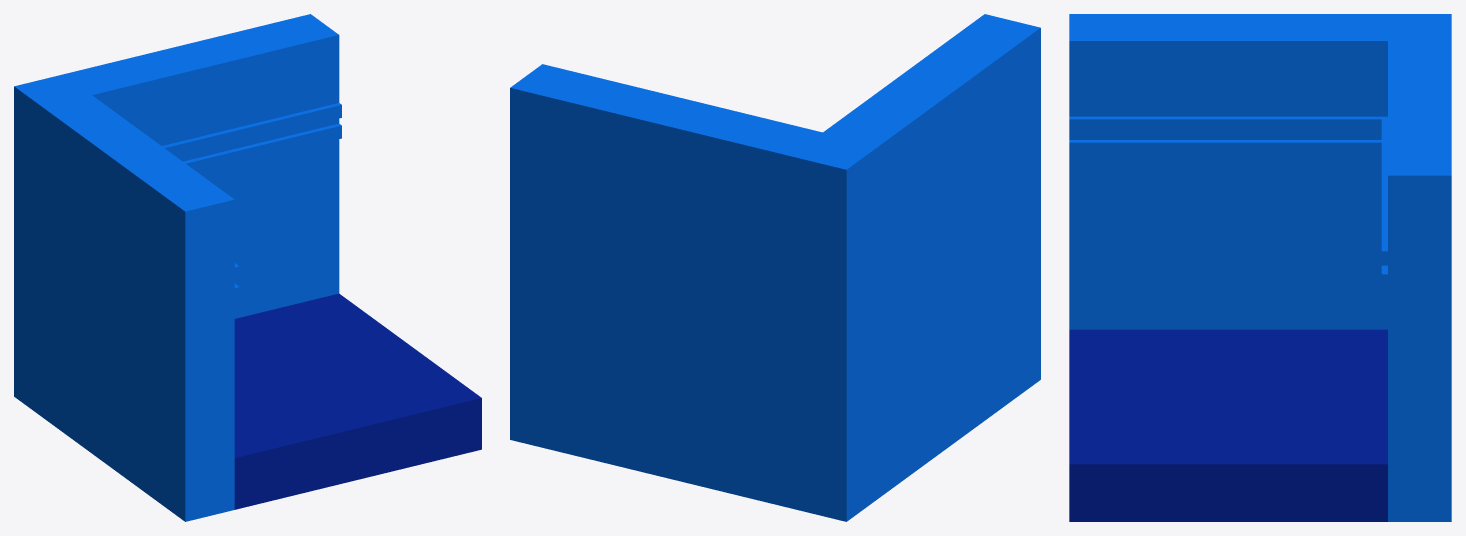
File: arcade_tile_wall_corner.fbx
3 renders of one model, left to right at view 1: azimuth 30°, elevation 25°; view 2: azimuth 150°, elevation 25°; view 3: azimuth 270°, elevation 25°, orthographic. The views are drawn at different scales.
Visible parts, largest first — view 1: wall_corner, tile_wall_corner; view 2: wall_corner; view 3: wall_corner, tile_wall_corner.
Part boxes in pixels (<box>): wall_corner: <box>14,14,341,521</box>; tile_wall_corner: <box>234,293,481,509</box>; wall_corner: <box>510,14,1040,521</box>; wall_corner: <box>1069,14,1451,521</box>; tile_wall_corner: <box>1069,329,1387,521</box>.
Bounding box in the file's own units: 6 × 6 × 6.
